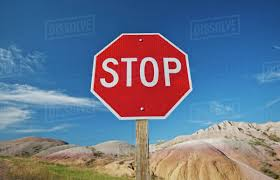Stop: (84, 23, 207, 123)
